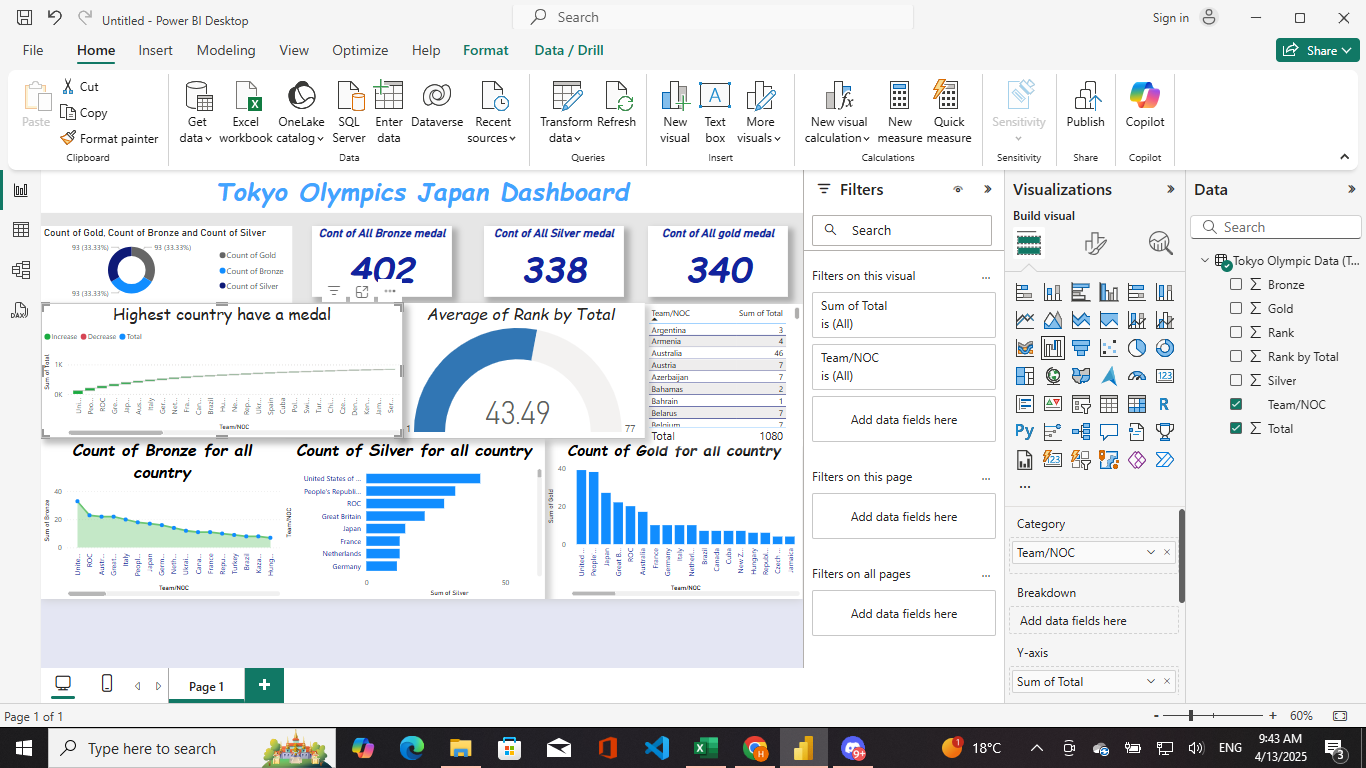

What the dashboard file says about the page in this screenshot:
{"tool":"powerbi","page":{"name":"Page 1","canvas":[1280,720],"ordinal":0},"visuals":[{"type":"clusteredColumnChart","title":"Count of Gold for all country","fields":{"Category":["Tokyo Olympic Data (Tokyo Olympic).Team/NOC"],"Y":["Sum(Tokyo Olympic Data (Tokyo Olympic).Gold)"]},"box":[431.7,451.9,582.9,268.8],"z":0},{"type":"clusteredBarChart","title":"Count of Silver for all country","fields":{"Category":["Tokyo Olympic Data (Tokyo Olympic).Team/NOC"],"Y":["Sum(Tokyo Olympic Data (Tokyo Olympic).Silver)"]},"box":[0,451.9,431.7,268.8],"z":1000},{"type":"barChart","title":"Count of Bronze for all country","fields":{"Category":["Tokyo Olympic Data (Tokyo Olympic).Team/NOC"],"Y":["Sum(Tokyo Olympic Data (Tokyo Olympic).Bronze)"]},"box":[0,77.3,305.7,378],"z":2000},{"type":"card","title":"Cont of All gold medal","fields":{"Values":["Sum(Tokyo Olympic Data (Tokyo Olympic).Gold)"]},"box":[1045.3,76.6,234.2,118.6],"z":3000},{"type":"textbox","box":[0,0,1280,72.2],"z":4000},{"type":"card","title":"Cont of All Silver medal","fields":{"Values":["Sum(Tokyo Olympic Data (Tokyo Olympic).Silver)"]},"box":[809.6,76.6,235.7,118.6],"z":5000},{"type":"card","title":"Cont of All Bronze medal","fields":{"Values":["Sum(Tokyo Olympic Data (Tokyo Olympic).Bronze)"]},"box":[574,76.6,235.7,118.6],"z":6000},{"type":"waterfallChart","title":"Highest country have a medal","fields":{"Category":["Tokyo Olympic Data (Tokyo Olympic).Team/NOC"],"Y":["Sum(Tokyo Olympic Data (Tokyo Olympic).Total)"]},"box":[305.1,205.3,678.1,242.9],"z":7000},{"type":"tableEx","title":"Count of Gold for all country","fields":{"Values":["Tokyo Olympic Data (Tokyo Olympic).Team/NOC","Sum(Tokyo Olympic Data (Tokyo Olympic).Total)"]},"box":[1014.6,458.6,265.4,262],"z":8000},{"type":"donutChart","title":"percentage of all medel ","fields":{"Y":["CountNonNull(Tokyo Olympic Data (Tokyo Olympic).Gold)","CountNonNull(Tokyo Olympic Data (Tokyo Olympic).Bronze)","CountNonNull(Tokyo Olympic Data (Tokyo Olympic).Silver)"]},"box":[305.1,76.6,257.3,118.6],"z":9000},{"type":"gauge","title":"Average of Rank by Total","fields":{"Y":["Avg(Tokyo Olympic Data (Tokyo Olympic).Rank by Total)"],"MinValue":["Min(Tokyo Olympic Data (Tokyo Olympic).Rank by Total)1"],"MaxValue":["Max(Tokyo Olympic Data (Tokyo Olympic).Rank by Total)2"]},"box":[982.7,204.9,297.3,243.6],"z":10000}]}

Visuals, with their boxes on the page's 1280x720 design canvas (x1, y1, x2, y2). These are canvas units, not pixel positions in the 1366x768 screenshot, which may show the page scaled, cropped or inside an application window:
"Count of Gold for all country" clusteredColumnChart: {"left": 432, "top": 452, "right": 1015, "bottom": 721}
"Count of Silver for all country" clusteredBarChart: {"left": 0, "top": 452, "right": 432, "bottom": 721}
"Count of Bronze for all country" barChart: {"left": 0, "top": 77, "right": 306, "bottom": 455}
"Cont of All gold medal" card: {"left": 1045, "top": 77, "right": 1280, "bottom": 195}
textbox: {"left": 0, "top": 0, "right": 1280, "bottom": 72}
"Cont of All Silver medal" card: {"left": 810, "top": 77, "right": 1045, "bottom": 195}
"Cont of All Bronze medal" card: {"left": 574, "top": 77, "right": 810, "bottom": 195}
"Highest country have a medal" waterfallChart: {"left": 305, "top": 205, "right": 983, "bottom": 448}
"Count of Gold for all country" tableEx: {"left": 1015, "top": 459, "right": 1280, "bottom": 721}
"percentage of all medel " donutChart: {"left": 305, "top": 77, "right": 562, "bottom": 195}
"Average of Rank by Total" gauge: {"left": 983, "top": 205, "right": 1280, "bottom": 448}
